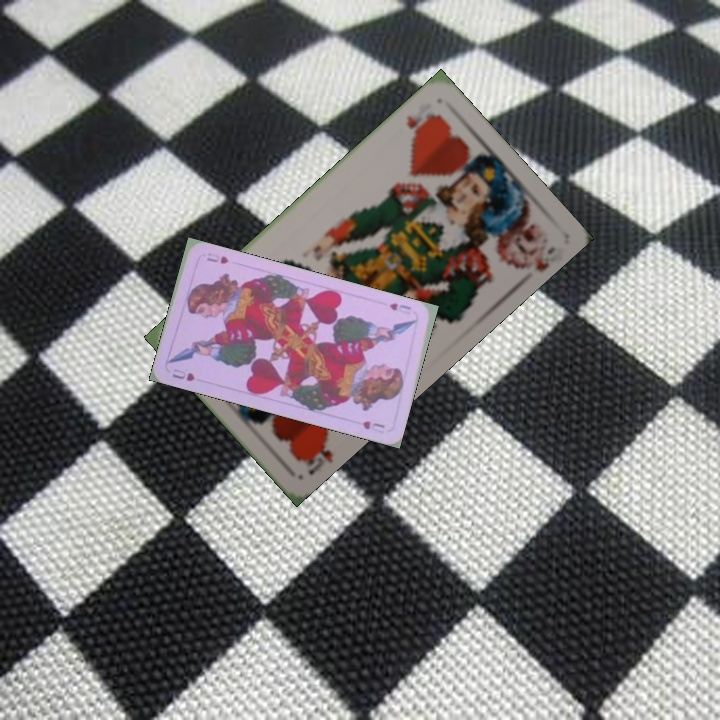HO: (294, 429, 335, 478), (402, 98, 442, 143)
HU: (385, 299, 419, 323), (168, 365, 198, 384)
